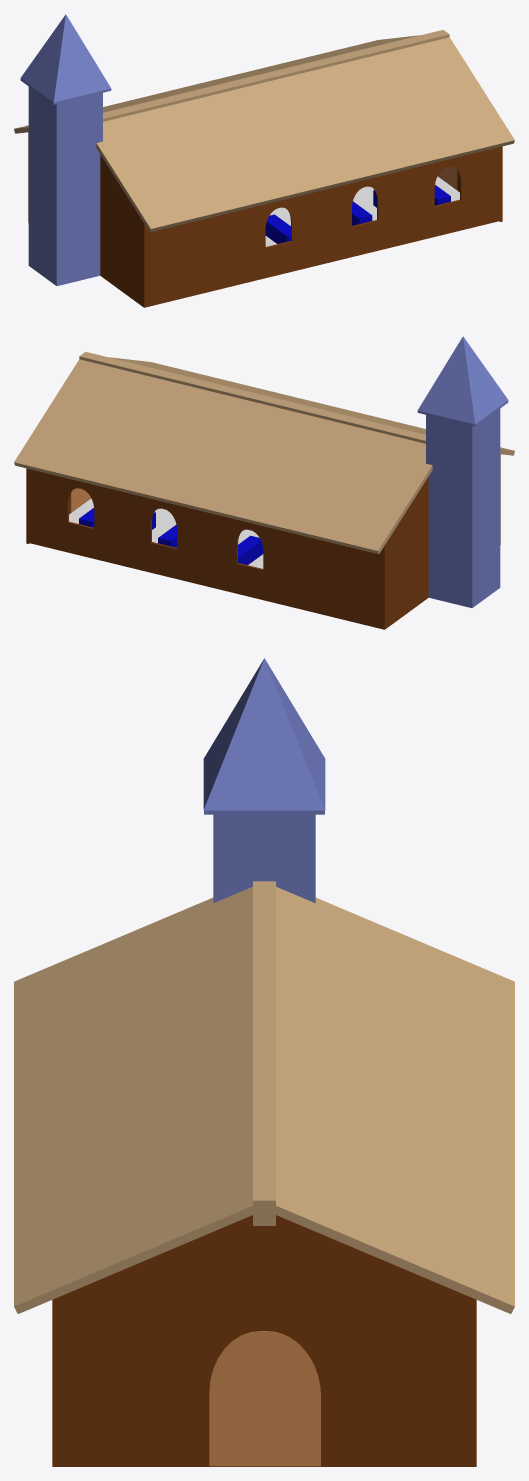
The model's file is churchproto.fbx.
3 views of the same model, one above another, from view 1: azimuth 30°, elevation 25°; view 2: azimuth 150°, elevation 25°; view 3: azimuth 270°, elevation 25° (orthographic). The views are drawn at different scales.
Parts seen in each view (by area): view 1: Cube.022, Cube.018, Cube.014, Cube.015, Cube.016, Cone, Cube.023, Cube.021, Plane, Cube.037; view 2: Cube.021, Cube.019, Cube.013, Cube.015, Cube.017, Cone, Cube.023, Cube.022, Plane, Cube.036; view 3: Cube.021, Cube.022, Cube.020, Cube.024, Cube.035, Cone, Cube.023, Cube.026, Cube.025.
Boxes of the visible parts, left/top/right/bottom form: Cube.022: left=96, top=37, right=514, bottom=232; Cube.018: left=143, top=147, right=500, bottom=307; Cube.014: left=58, top=93, right=102, bottom=285; Cube.015: left=28, top=87, right=58, bottom=285; Cube.016: left=100, top=155, right=143, bottom=306; Cone: left=20, top=14, right=111, bottom=102; Cube.023: left=103, top=30, right=449, bottom=121; Cube.021: left=14, top=35, right=419, bottom=133; Plane: left=265, top=176, right=459, bottom=246; Cube.037: left=265, top=214, right=290, bottom=243; Cube.021: left=14, top=359, right=432, bottom=554; Cube.019: left=28, top=469, right=385, bottom=629; Cube.013: left=427, top=415, right=470, bottom=607; Cube.015: left=470, top=409, right=500, bottom=607; Cube.017: left=386, top=477, right=428, bottom=628; Cone: left=417, top=336, right=508, bottom=424; Cube.023: left=79, top=352, right=425, bottom=443; Cube.022: left=109, top=357, right=514, bottom=455; Plane: left=69, top=498, right=263, bottom=568; Cube.036: left=238, top=535, right=263, bottom=564; Cube.021: left=270, top=886, right=514, bottom=1313; Cube.022: left=14, top=886, right=257, bottom=1313; Cube.020: left=52, top=1215, right=264, bottom=1466; Cube.024: left=264, top=1215, right=476, bottom=1466; Cube.035: left=209, top=1331, right=320, bottom=1466; Cone: left=203, top=658, right=325, bottom=810; Cube.023: left=253, top=881, right=275, bottom=1225; Cube.026: left=213, top=814, right=264, bottom=903; Cube.025: left=264, top=814, right=315, bottom=903.
Bounding box in the file's own units: 4640 × 2788 × 2688.
